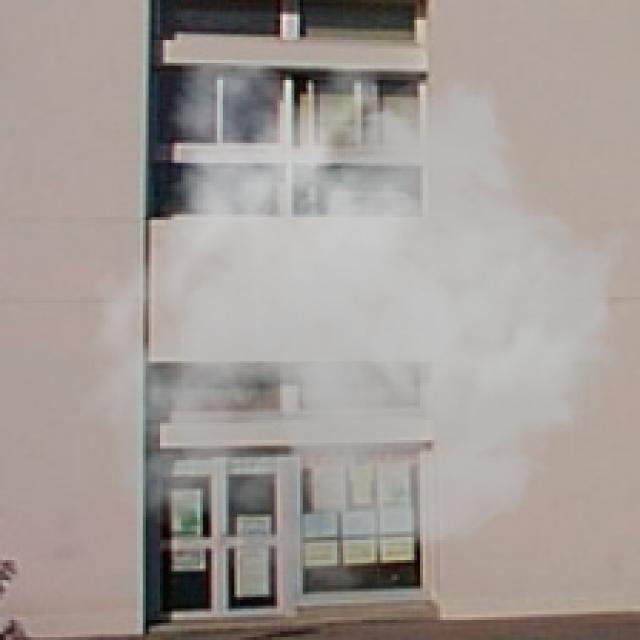smoke: (75, 66, 634, 603)
